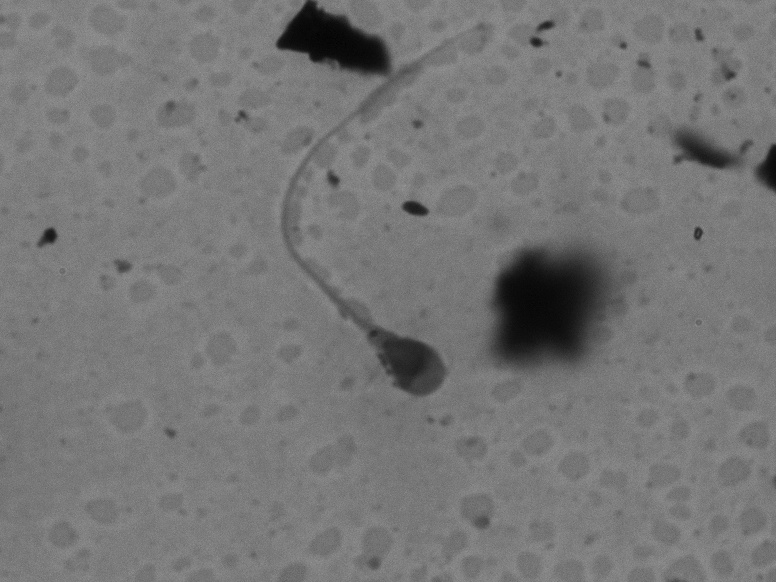Abnormal: (232, 10, 510, 417)
